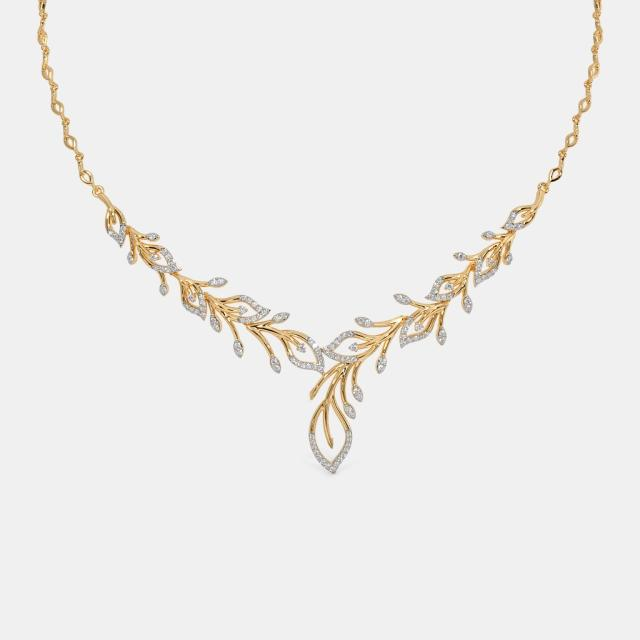missing gem: (298, 390, 314, 416), (326, 441, 335, 454)
